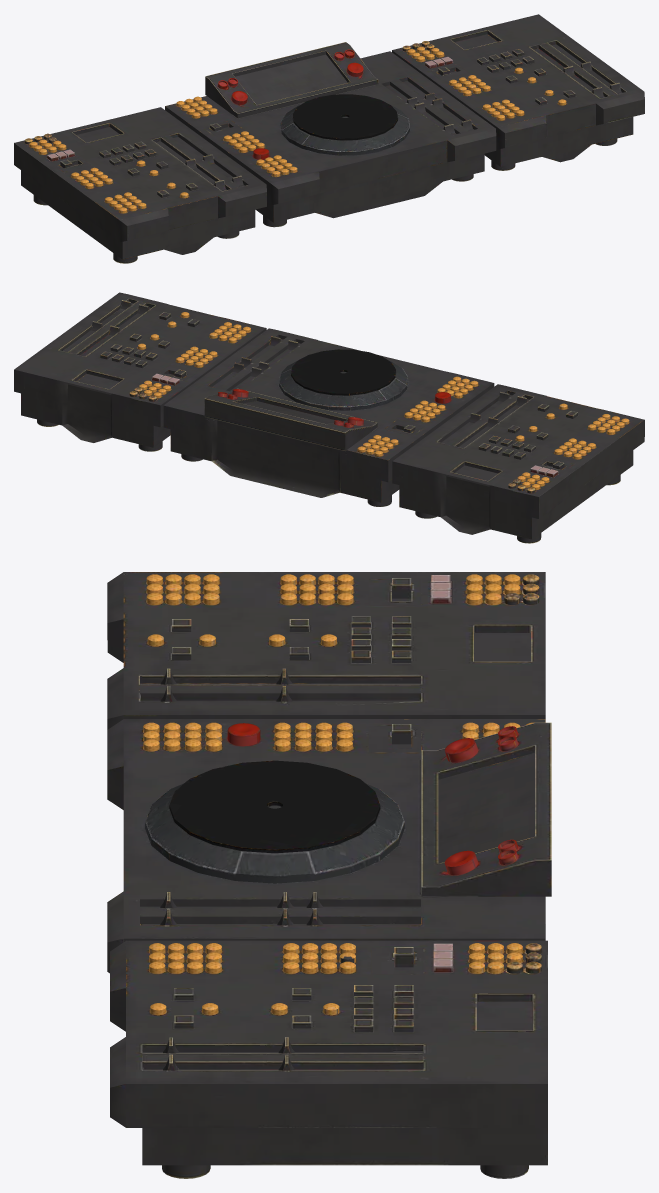
The model's file is club_dj.glb.
3 renders of one model, top to bottom at view 1: azimuth 30°, elevation 25°; view 2: azimuth 150°, elevation 25°; view 3: azimuth 270°, elevation 25°, orthographic. The views are drawn at different scales.
Visible parts, largest first — view 1: club_dj; view 2: club_dj; view 3: club_dj.
Part boxes in pixels (bbox=[...]): club_dj: bbox=[14, 14, 644, 263]; club_dj: bbox=[14, 292, 644, 543]; club_dj: bbox=[107, 572, 551, 1178].
Bounding box in the file's own units: 1.86 × 0.2484 × 0.6821.
Materials: 1 (1 with a texture image).
